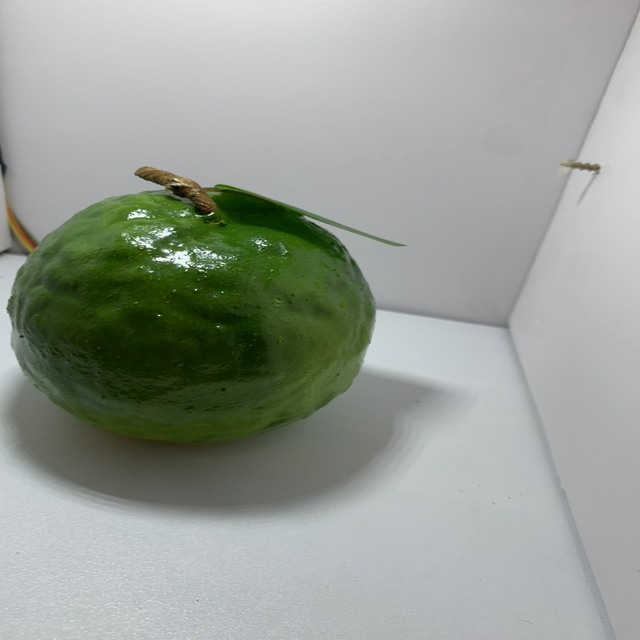Cam xanh: (8, 166, 377, 452)
